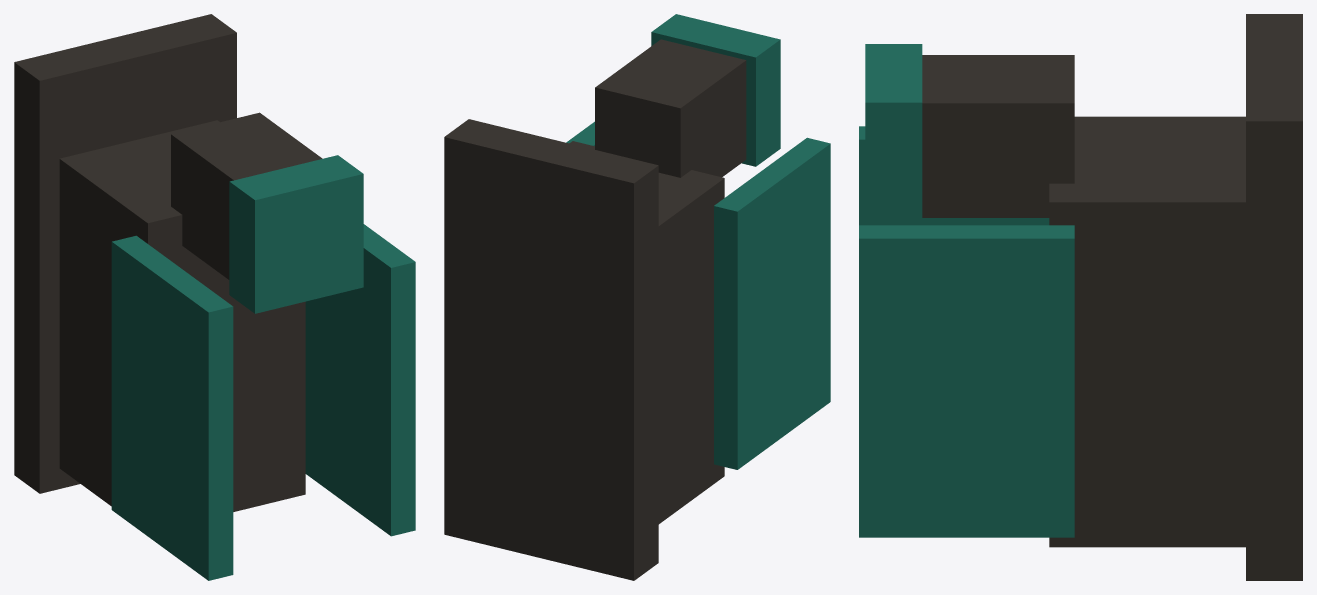
File: SM_Lamassu_Guardian.obj
3 views of the same model, side by side, from view 1: azimuth 30°, elevation 25°; view 2: azimuth 150°, elevation 25°; view 3: azimuth 270°, elevation 25° (orthographic). The views are drawn at different scales.
Visible parts, largest first — view 1: DarkBasalt, PatinaBronze; view 2: DarkBasalt, PatinaBronze; view 3: DarkBasalt, PatinaBronze.
Part boxes in pixels (x1,y1,x2,y2): DarkBasalt: (14, 14, 322, 511); PatinaBronze: (111, 155, 415, 580); DarkBasalt: (444, 39, 746, 580); PatinaBronze: (566, 14, 830, 469); DarkBasalt: (922, 14, 1302, 580); PatinaBronze: (859, 44, 1074, 537).
Size of the model in its own units: 210 by 400 by 350.
